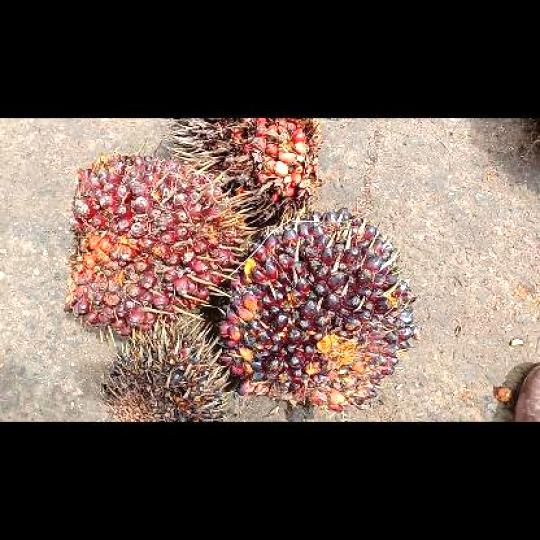kurang masak: (215, 205, 418, 413)
masak: (59, 151, 237, 340)
terlalu masak: (157, 118, 323, 232)
